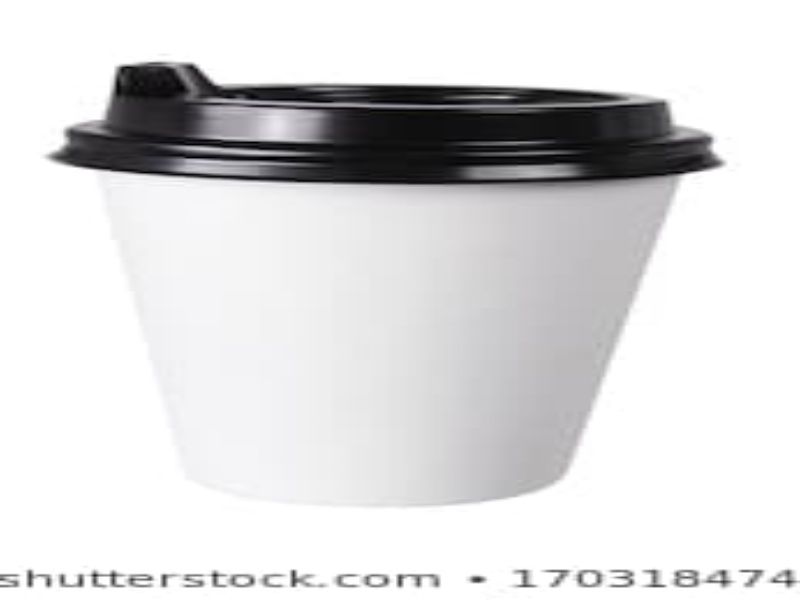coffee-lid: (39, 56, 733, 187)
plastic-cup: (44, 60, 725, 509)
